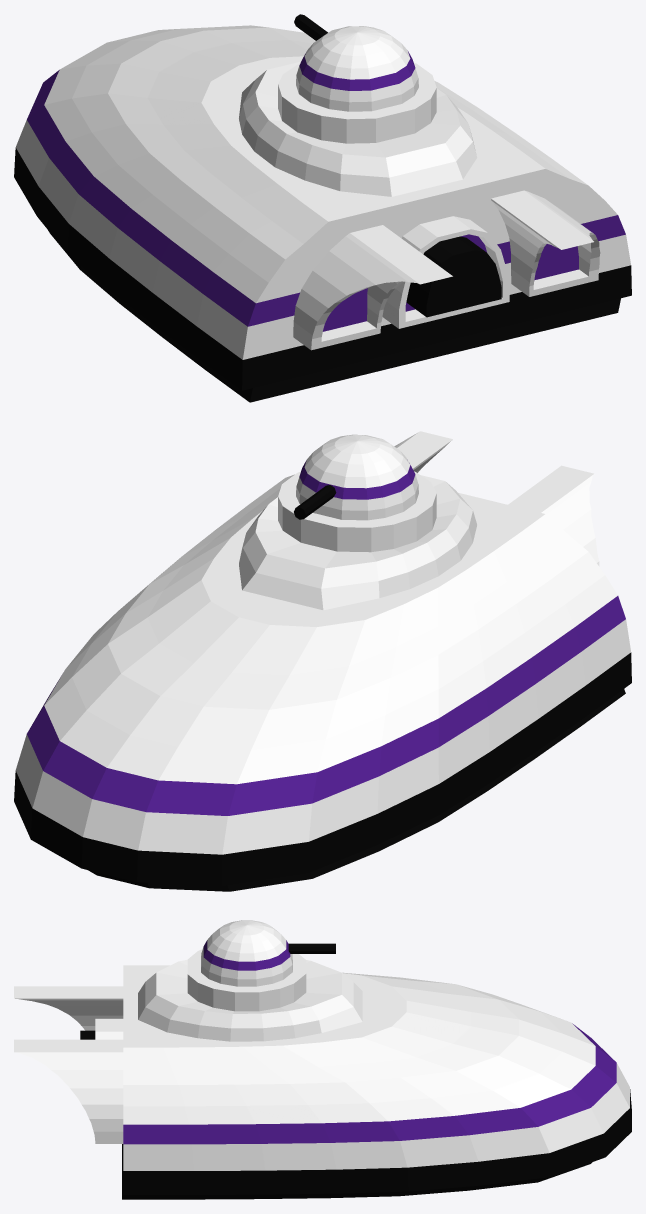
File: hover_bot.fbx
3 renders of one model, top to bottom at view 1: azimuth 30°, elevation 25°; view 2: azimuth 150°, elevation 25°; view 3: azimuth 270°, elevation 25°, orthographic. The views are drawn at different scales.
Visible parts, largest first — view 1: HoverBody, Jet_2, Jet_3, Jet_1; view 2: HoverBody, Jet_2, Jet_1, HoverGun; view 3: HoverBody, Jet_1, Jet_2, Jet_3, HoverGun.
Part boxes in pixels (left/top/right/bottom): HoverBody: left=14, top=25, right=631, bottom=402; Jet_2: left=293, top=225, right=452, bottom=350; Jet_3: left=382, top=216, right=509, bottom=328; Jet_1: left=491, top=190, right=600, bottom=296; HoverBody: left=14, top=434, right=631, bottom=891; Jet_2: left=508, top=465, right=599, bottom=566; Jet_1: left=394, top=431, right=452, bottom=472; HoverGun: left=294, top=485, right=336, bottom=519; HoverBody: left=122, top=920, right=631, bottom=1199; Jet_1: left=14, top=1039, right=123, bottom=1143; Jet_2: left=14, top=986, right=123, bottom=1030; Jet_3: left=80, top=1018, right=123, bottom=1039; HoverGun: left=288, top=943, right=335, bottom=953.
Bounding box in the file's own units: 283 × 184 × 501.
